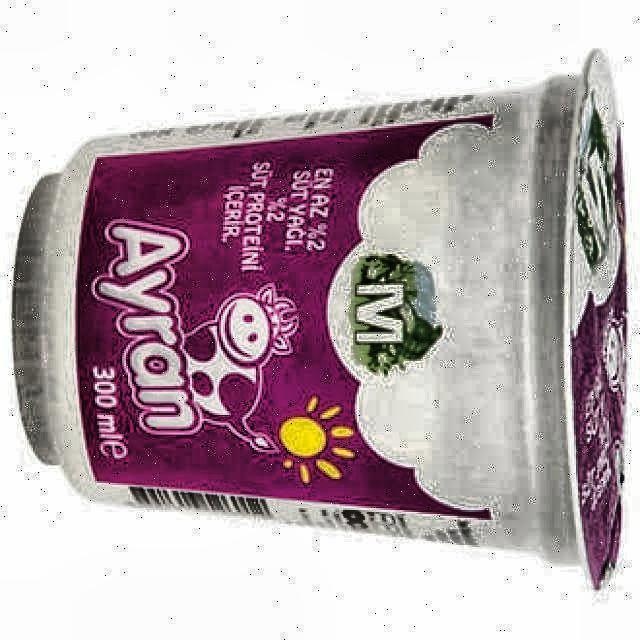plastic: (13, 51, 623, 584)
